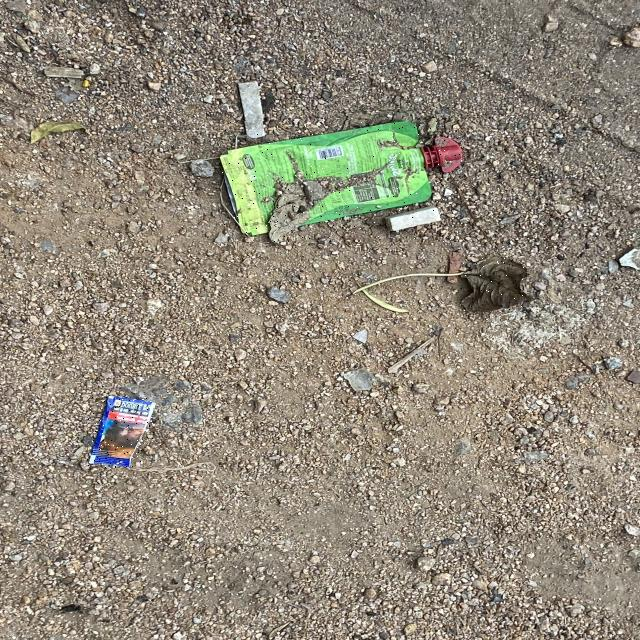biowaste: (461, 256, 528, 312)
wrapper: (220, 121, 463, 241), (88, 396, 154, 468)
